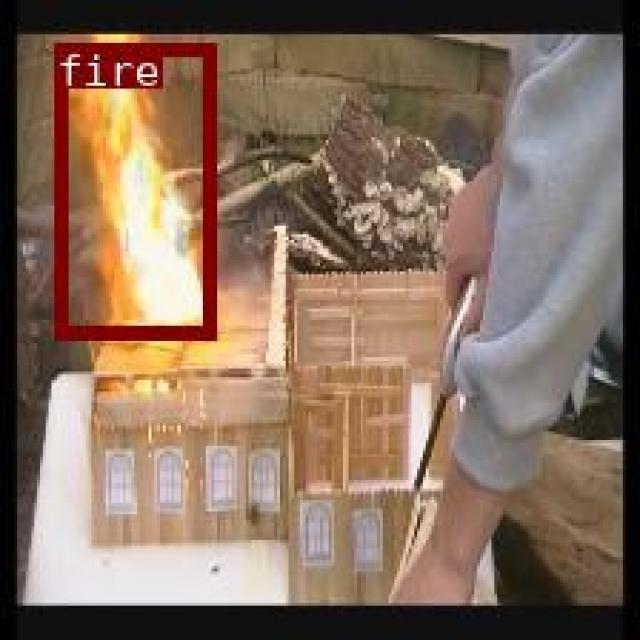fire: (53, 42, 214, 335)
